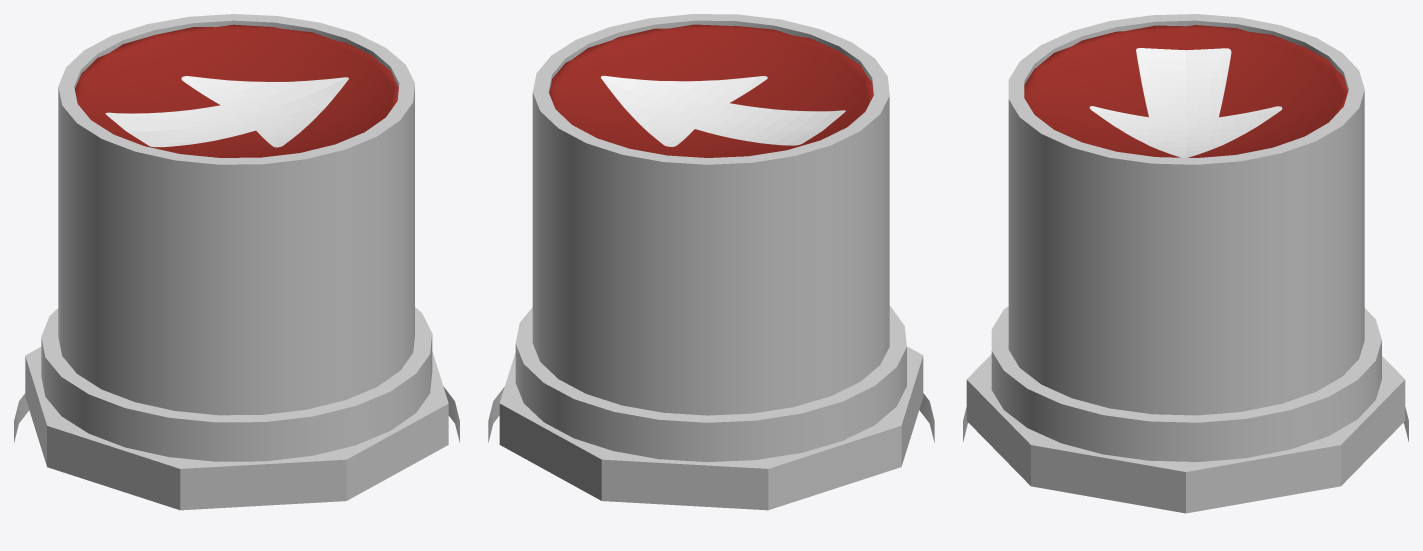
3 views of the same model, side by side, from view 1: azimuth 30°, elevation 25°; view 2: azimuth 150°, elevation 25°; view 3: azimuth 270°, elevation 25° (orthographic).
Parts seen in each view (by area): view 1: arming_handle, base, button, arrow_decal; view 2: arming_handle, base, button, arrow_decal; view 3: arming_handle, base, button, arrow_decal.
Part boxes in pixels (bbox=[...]): arming_handle: bbox=[58, 14, 414, 415]; base: bbox=[14, 307, 459, 510]; button: bbox=[74, 24, 398, 157]; arrow_decal: bbox=[105, 76, 348, 147]; arming_handle: bbox=[532, 14, 889, 415]; base: bbox=[488, 306, 934, 510]; button: bbox=[549, 24, 873, 157]; arrow_decal: bbox=[600, 75, 845, 146]; arming_handle: bbox=[1008, 14, 1364, 415]; base: bbox=[963, 306, 1408, 513]; button: bbox=[1024, 25, 1347, 157]; arrow_decal: bbox=[1089, 48, 1282, 157].
Size of the model in its own units: 1.99 by 1.75 by 2.
2 materials, 1 textured.
